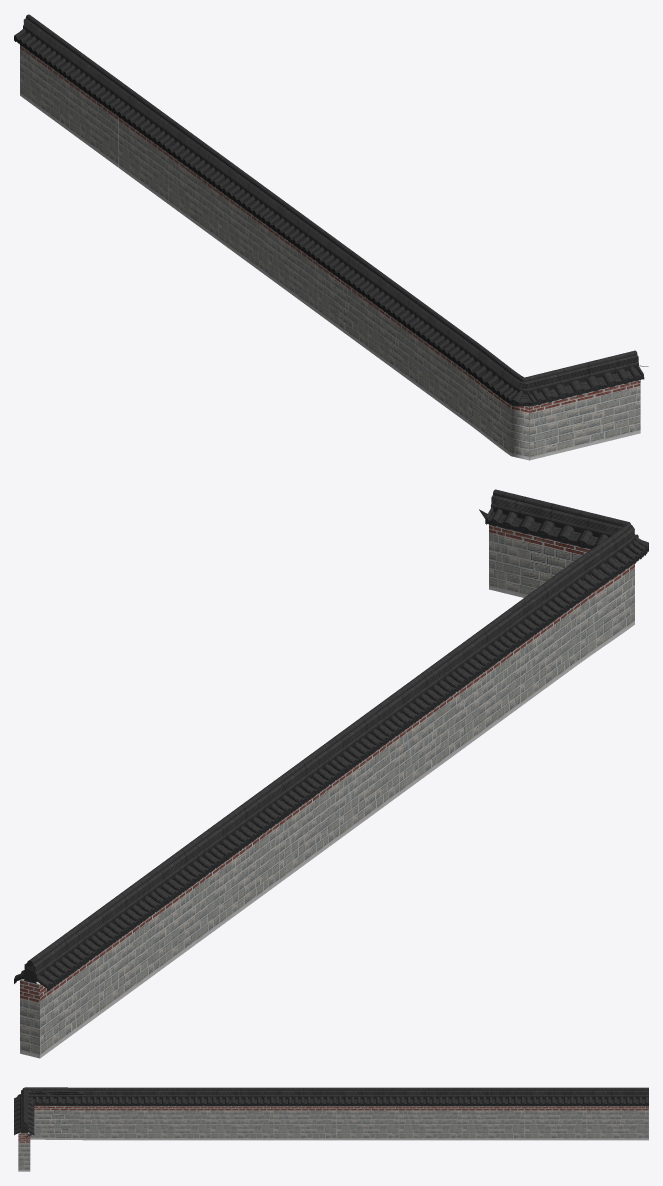
File: SM_DG_HG_StoneWallH_Splines_9.fbx
The picture shows the model from 3 angles, top to bottom: view 1: azimuth 30°, elevation 25°; view 2: azimuth 150°, elevation 25°; view 3: azimuth 270°, elevation 25°; orthographic projection. The views are drawn at different scales.
Visible parts, largest first — view 1: SM_DG_HG_StoneWallH_Splines_9; view 2: SM_DG_HG_StoneWallH_Splines_9; view 3: SM_DG_HG_StoneWallH_Splines_9.
Part boxes in pixels (left/top/right/bottom): SM_DG_HG_StoneWallH_Splines_9: left=14, top=14, right=648, bottom=460; SM_DG_HG_StoneWallH_Splines_9: left=14, top=489, right=648, bottom=1058; SM_DG_HG_StoneWallH_Splines_9: left=14, top=1087, right=648, bottom=1171.
Size of the model in its own units: 330 by 2058 by 178.
